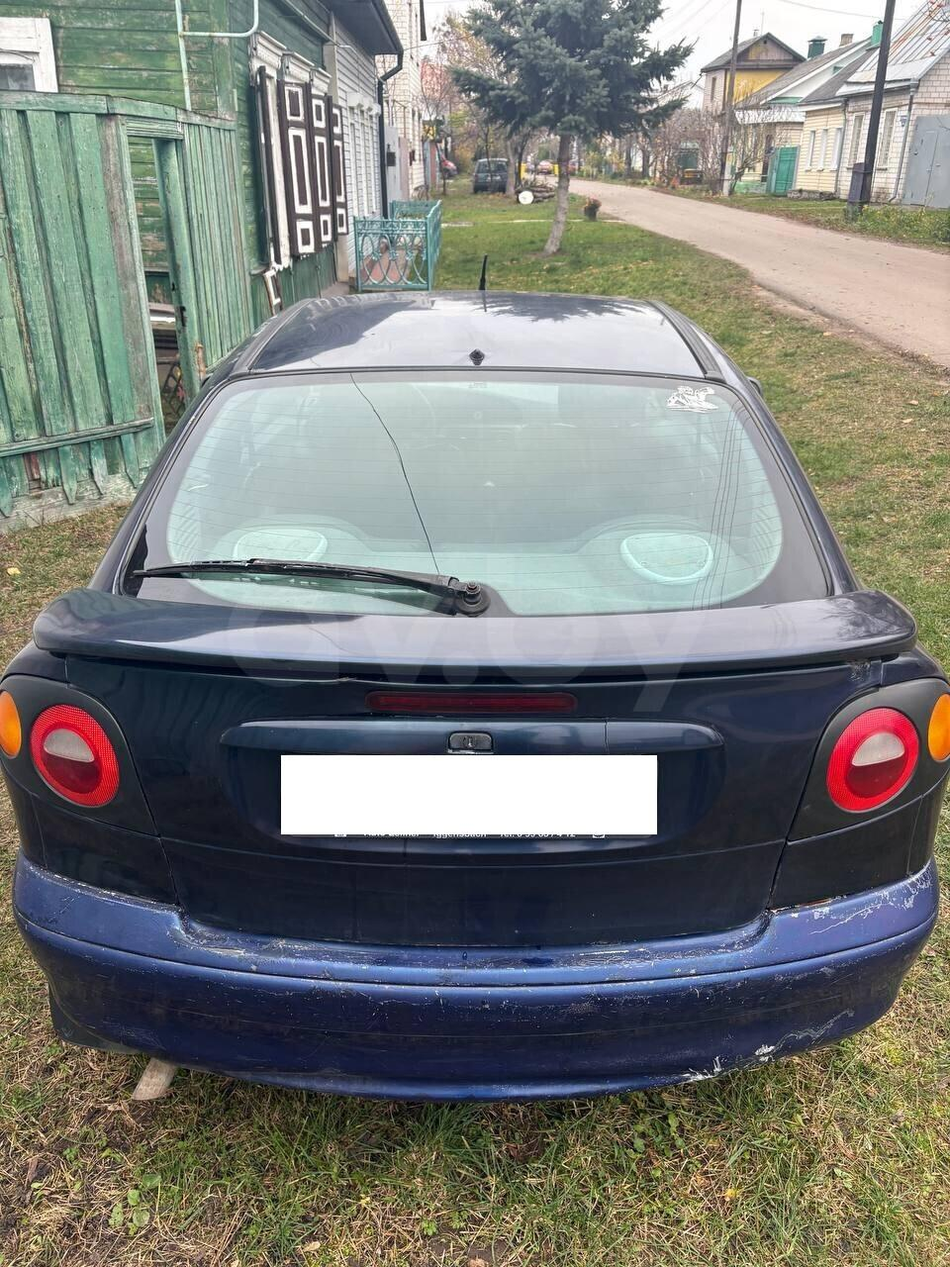Megane_1995-1999: (0, 271, 950, 1117)
